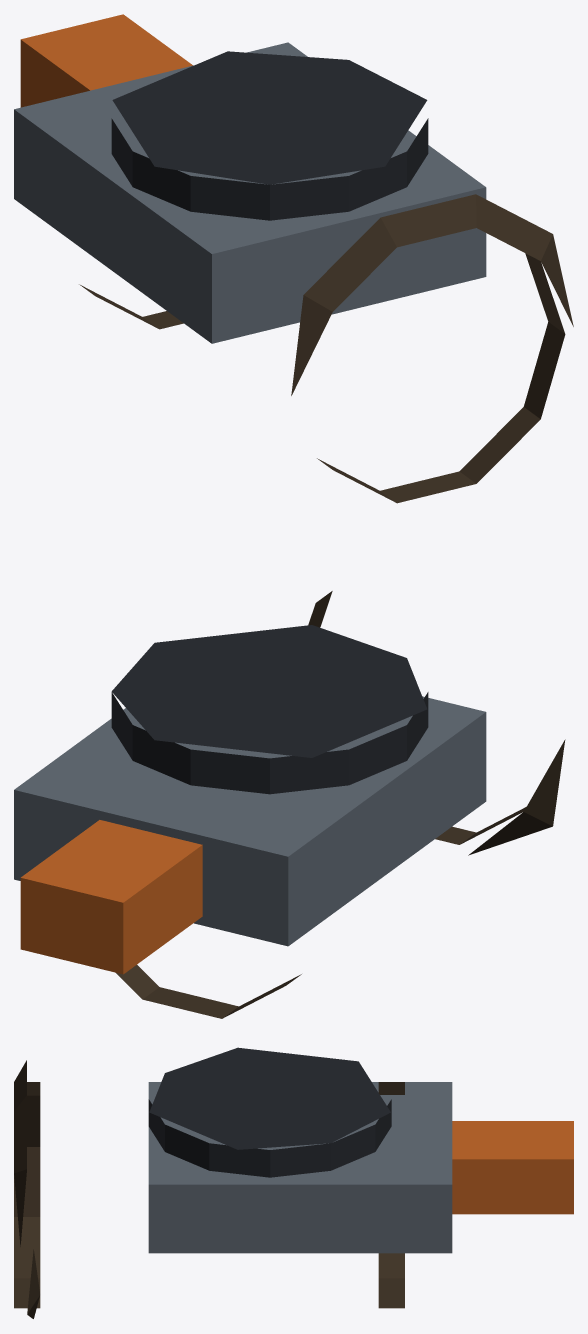
Rendered from light-shield-generator.lod.glb.
The picture shows the model from 3 angles, top to bottom: view 1: azimuth 30°, elevation 25°; view 2: azimuth 150°, elevation 25°; view 3: azimuth 270°, elevation 25°; orthographic projection. The views are drawn at different scales.
Parts seen in each view (by area): view 1: m; view 2: m; view 3: m.
Boxes of the visible parts, x1,y1,x2,y2 form: m: [14, 14, 573, 503]; m: [14, 591, 565, 1018]; m: [14, 1047, 573, 1318].
Size of the model in its own units: 0.0537 by 0.0534 by 0.12.
